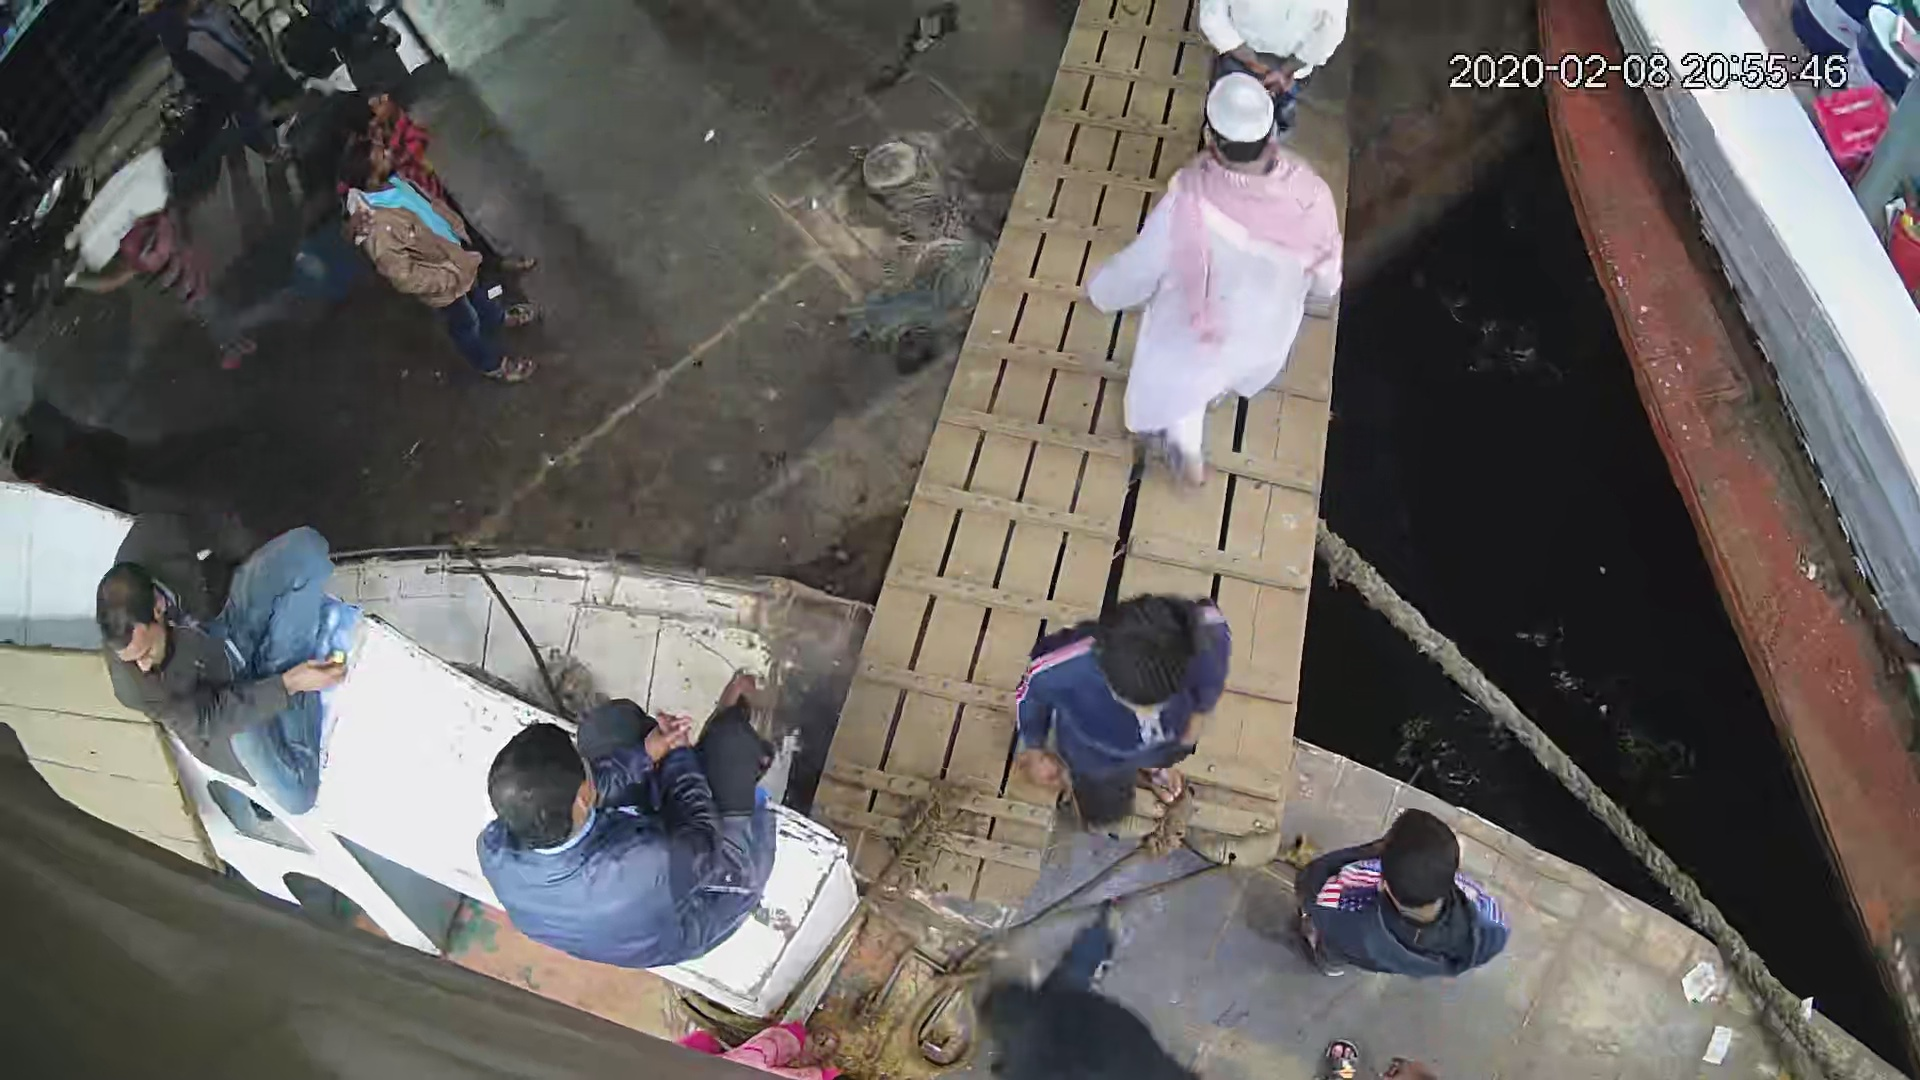person: (1071, 70, 1346, 496), (468, 665, 781, 980), (87, 491, 341, 818), (1008, 585, 1234, 840), (334, 144, 541, 390), (1276, 808, 1510, 984), (88, 197, 278, 361)
